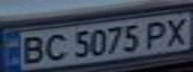0: (87, 26, 109, 57)
5: (121, 21, 148, 53), (69, 28, 93, 60)
7: (106, 24, 127, 55)
B: (15, 34, 48, 65)
C: (39, 30, 69, 63)
P: (139, 18, 172, 50)
X: (160, 15, 193, 47)
